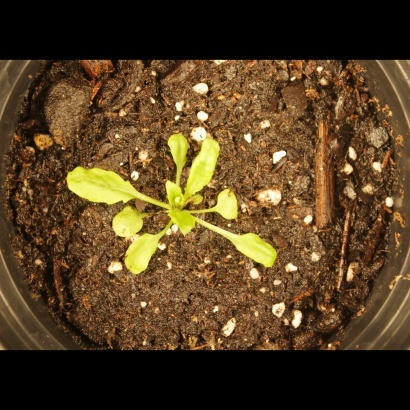leaf: (57, 163, 144, 209), (212, 226, 289, 269), (122, 232, 163, 291), (185, 130, 218, 199), (111, 201, 149, 246), (160, 123, 189, 176), (215, 185, 250, 221), (166, 206, 197, 236), (159, 181, 190, 207)
